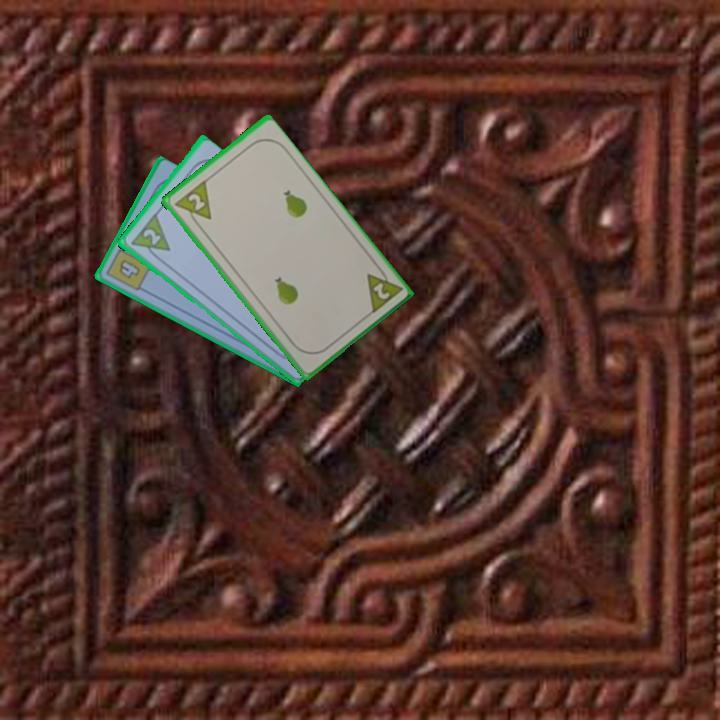2p: (170, 177, 214, 231), (362, 261, 404, 317), (138, 225, 163, 248)
4b: (103, 240, 154, 294)
